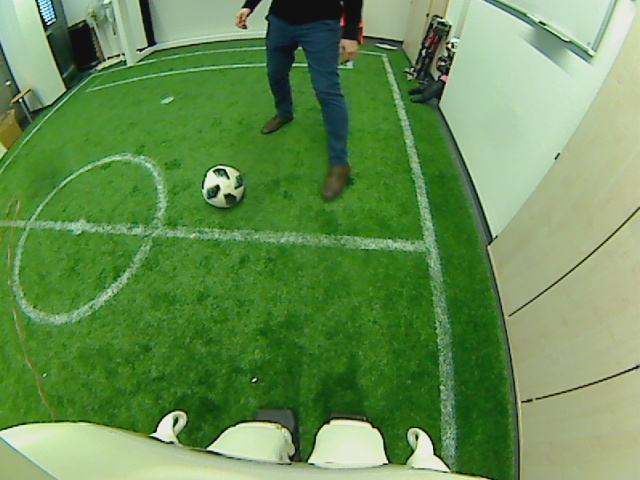ball: (199, 162, 246, 208)
